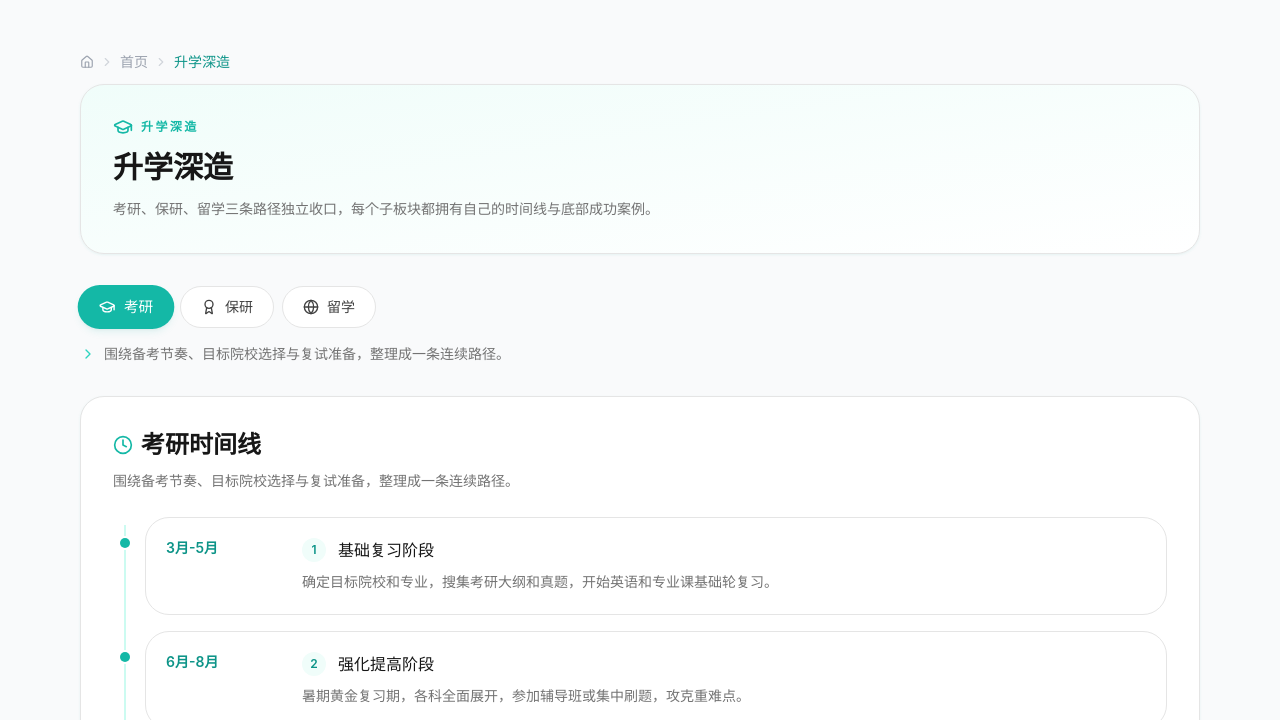
Test: FurtherEducation › switches the timeline and success cases with the active sub-section
Expected: the heading "考研时间线" is shown, [141,429,261,461]
What coordinates should you click on to do the following:
click the button "保研"
I would click on:
 (227, 307)
Its box is [180,286,274,328].
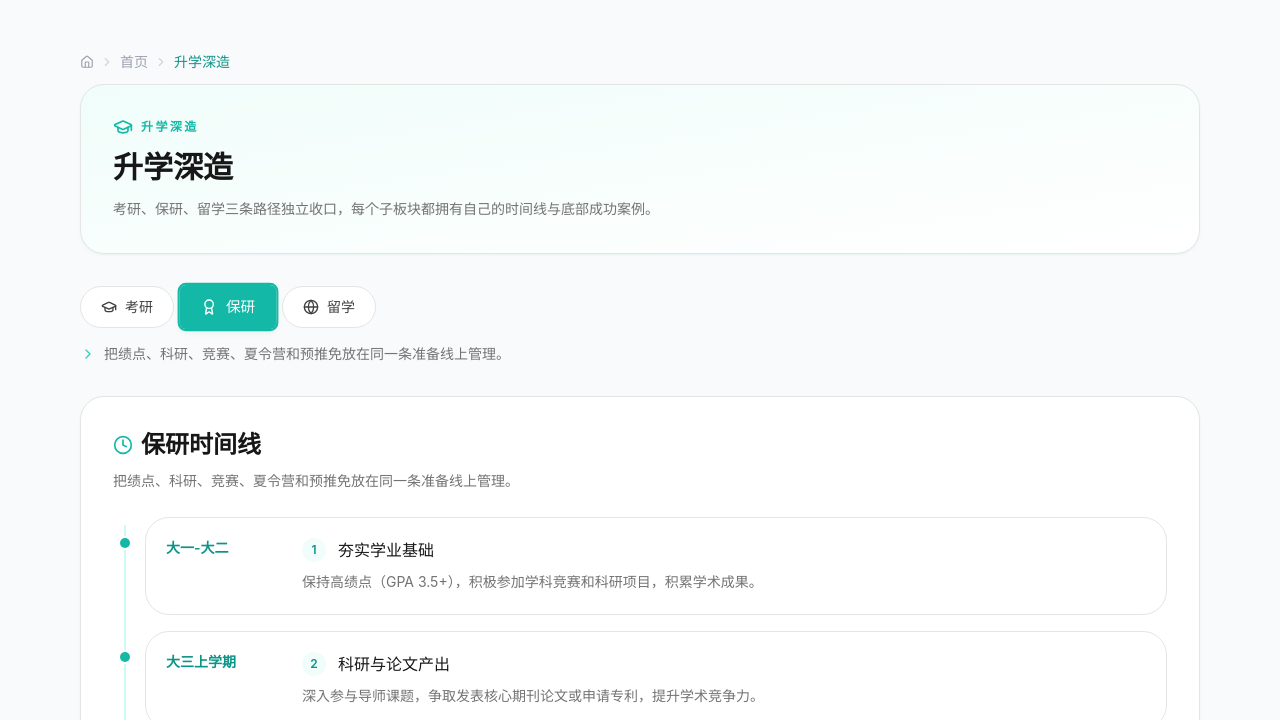
Now the heading "保研时间线" is shown, box [141,429,261,461]
What coordinates should you click on to do the following:
click the button "留学"
I would click on:
 (329, 307)
Its box is [282,286,376,328].
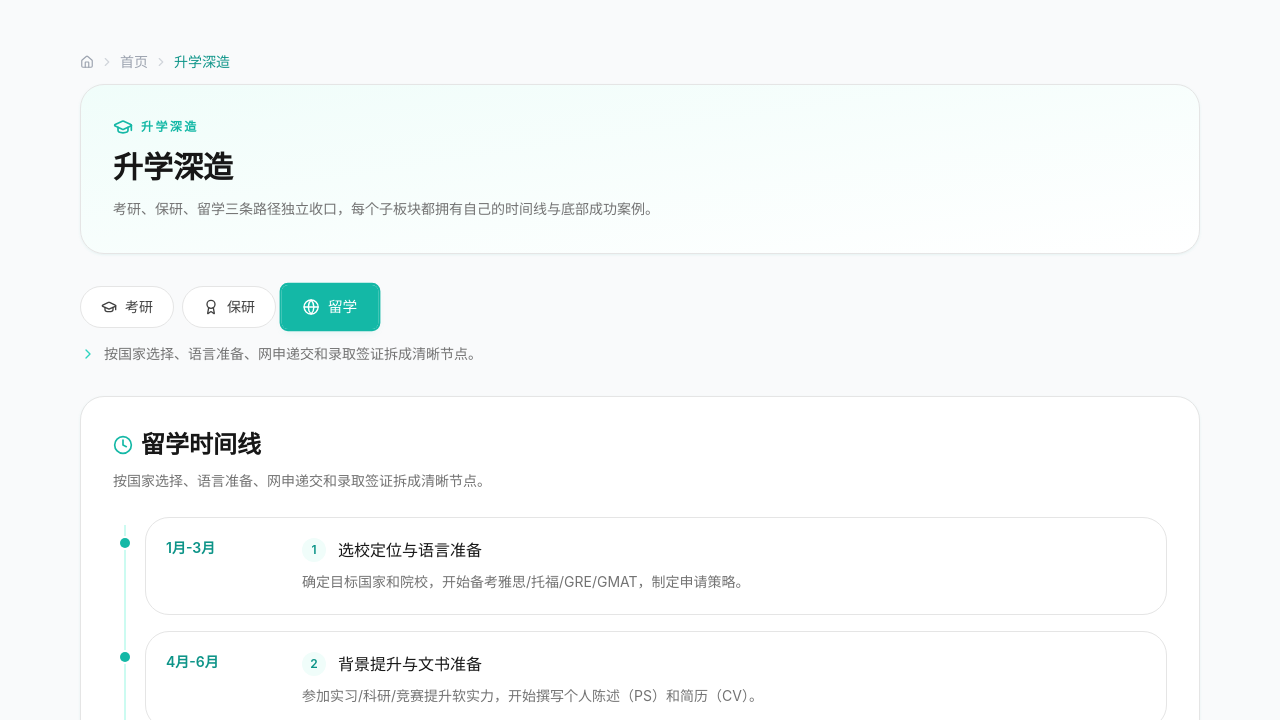
Now the heading "留学时间线" is shown, box [141,429,261,461]
Now the text "选校定位与语言准备" is shown, box [338,538,482,562]
